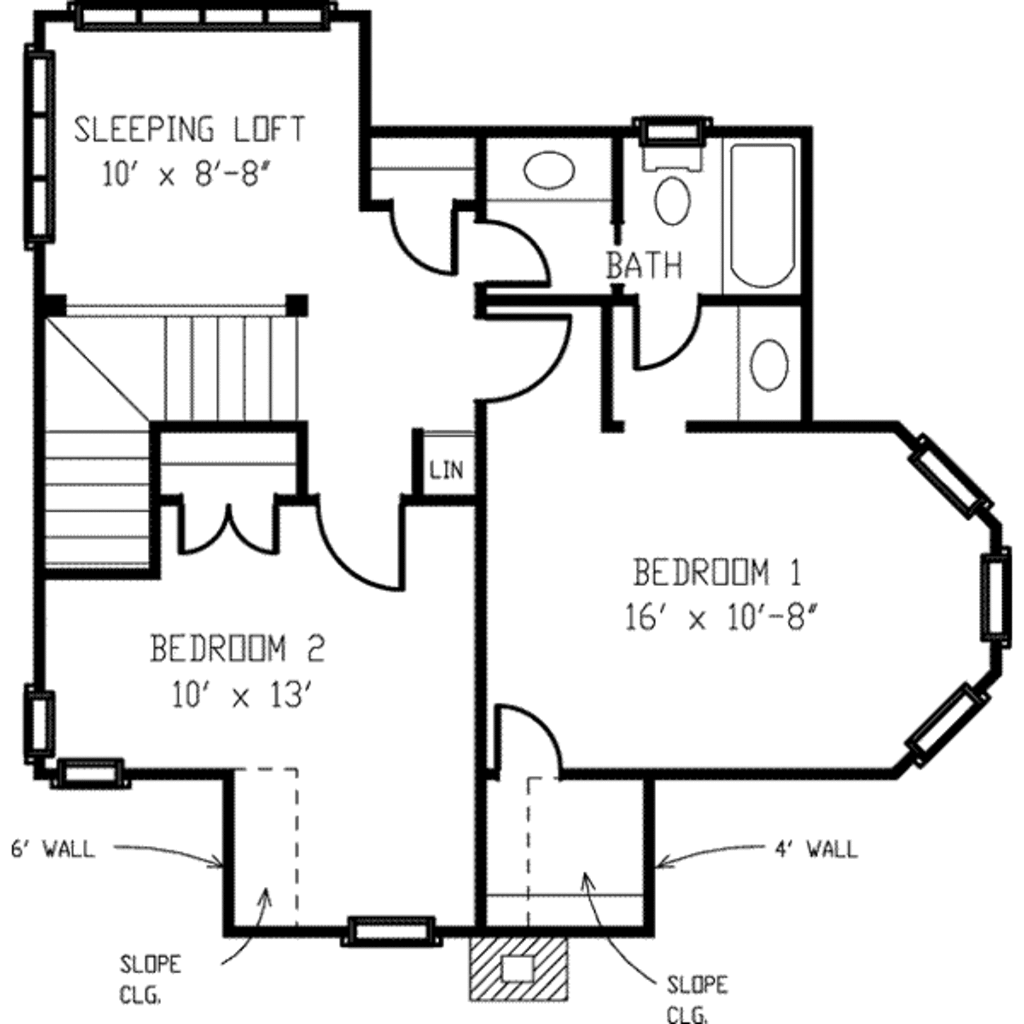door: (314, 491, 408, 592), (472, 308, 572, 400), (164, 485, 280, 564), (623, 286, 711, 382), (491, 705, 572, 785), (392, 194, 463, 278), (477, 214, 555, 286)
large_sink: (639, 117, 709, 232)
small_sink: (484, 135, 617, 200), (736, 307, 800, 417)
stairs: (47, 292, 322, 587)
tub: (722, 136, 808, 291)
window: (890, 664, 1003, 771), (905, 411, 997, 530), (961, 533, 1020, 660), (334, 910, 447, 955), (17, 680, 56, 764), (53, 757, 134, 797)
